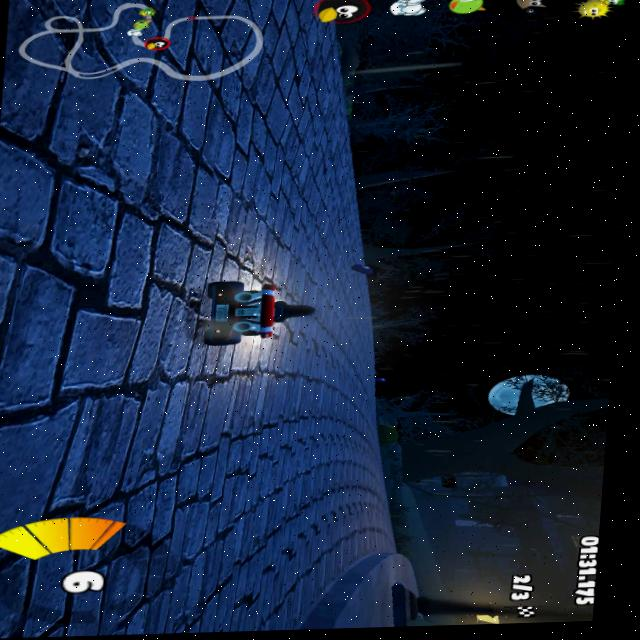nitro: (347, 262, 376, 280)
player_kart: (162, 270, 331, 358)
